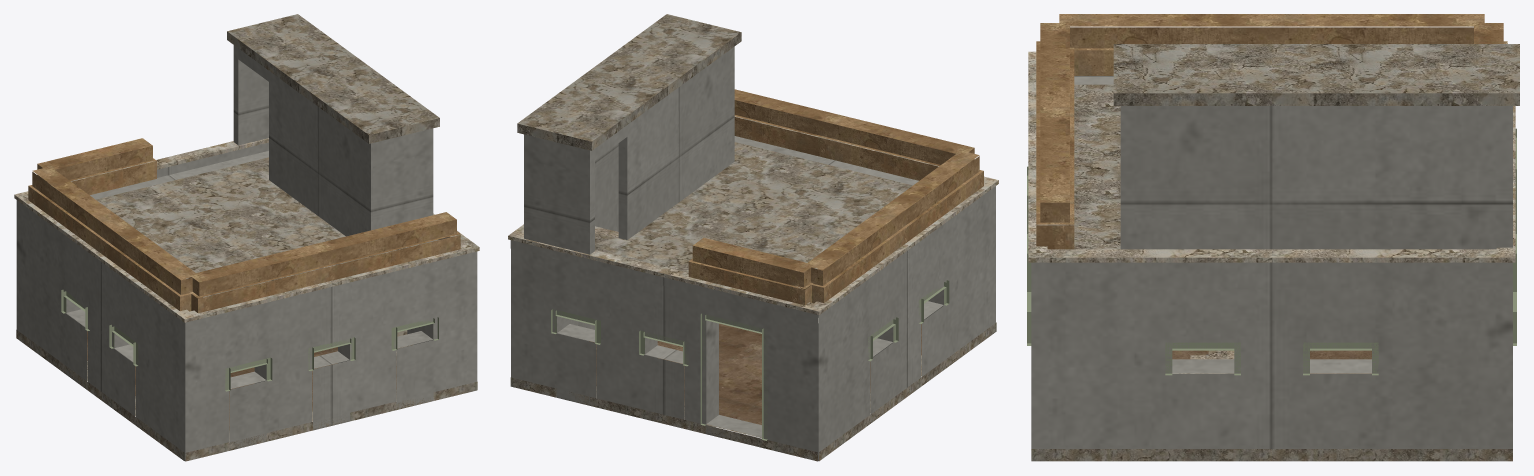
Rendered from mb-pillbox.zfix-v20.lod0.glb.
3 renders of one model, left to right at view 1: azimuth 30°, elevation 25°; view 2: azimuth 150°, elevation 25°; view 3: azimuth 270°, elevation 25°, orthographic. The views are drawn at different scales.
Parts seen in each view (by area): view 1: mb-pillbox; view 2: mb-pillbox; view 3: mb-pillbox.
Part boxes in pixels (x1,y1,x2,y2): mb-pillbox: (14,14,479,461); mb-pillbox: (508,14,998,461); mb-pillbox: (1027,14,1519,461).
Bounding box in the file's own units: 7.12 × 5.82 × 7.16.
4 materials, 3 textured.
